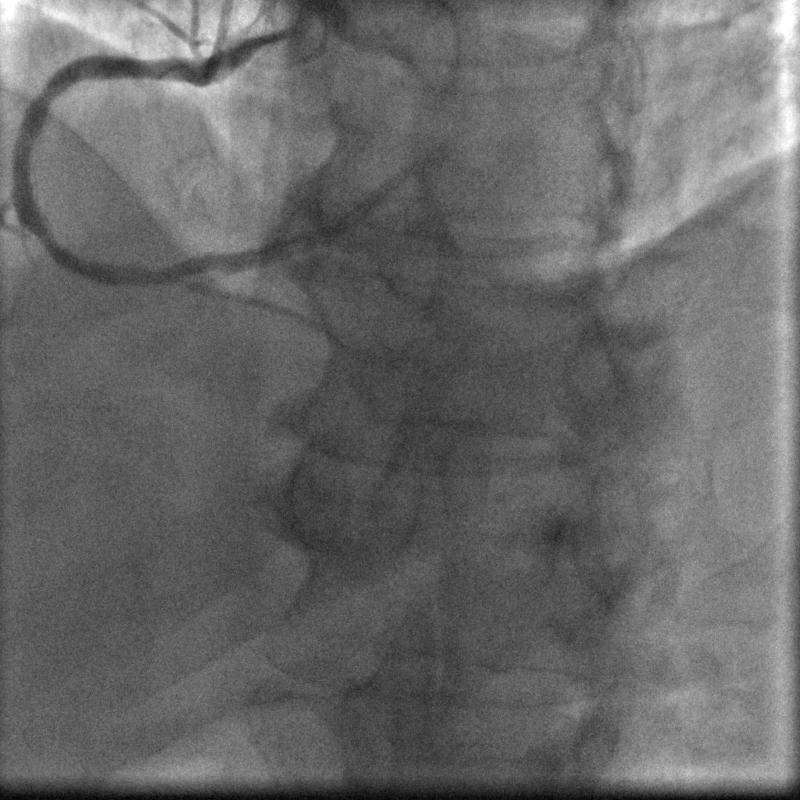Stenosis: (125, 255, 190, 284)
